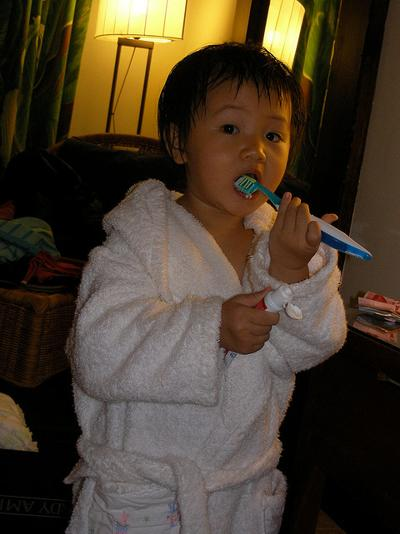person: (63, 40, 348, 533)
